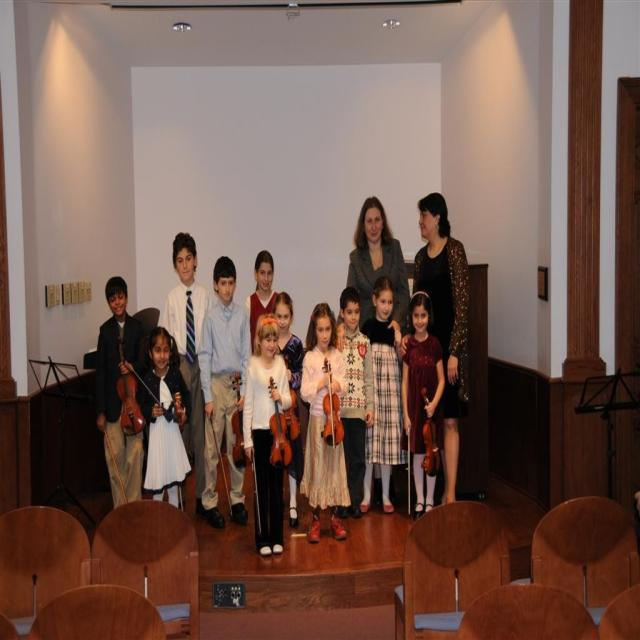violin: (115, 336, 146, 437), (229, 369, 253, 472), (266, 376, 290, 472), (321, 360, 344, 447), (421, 389, 441, 480), (174, 391, 186, 422)
